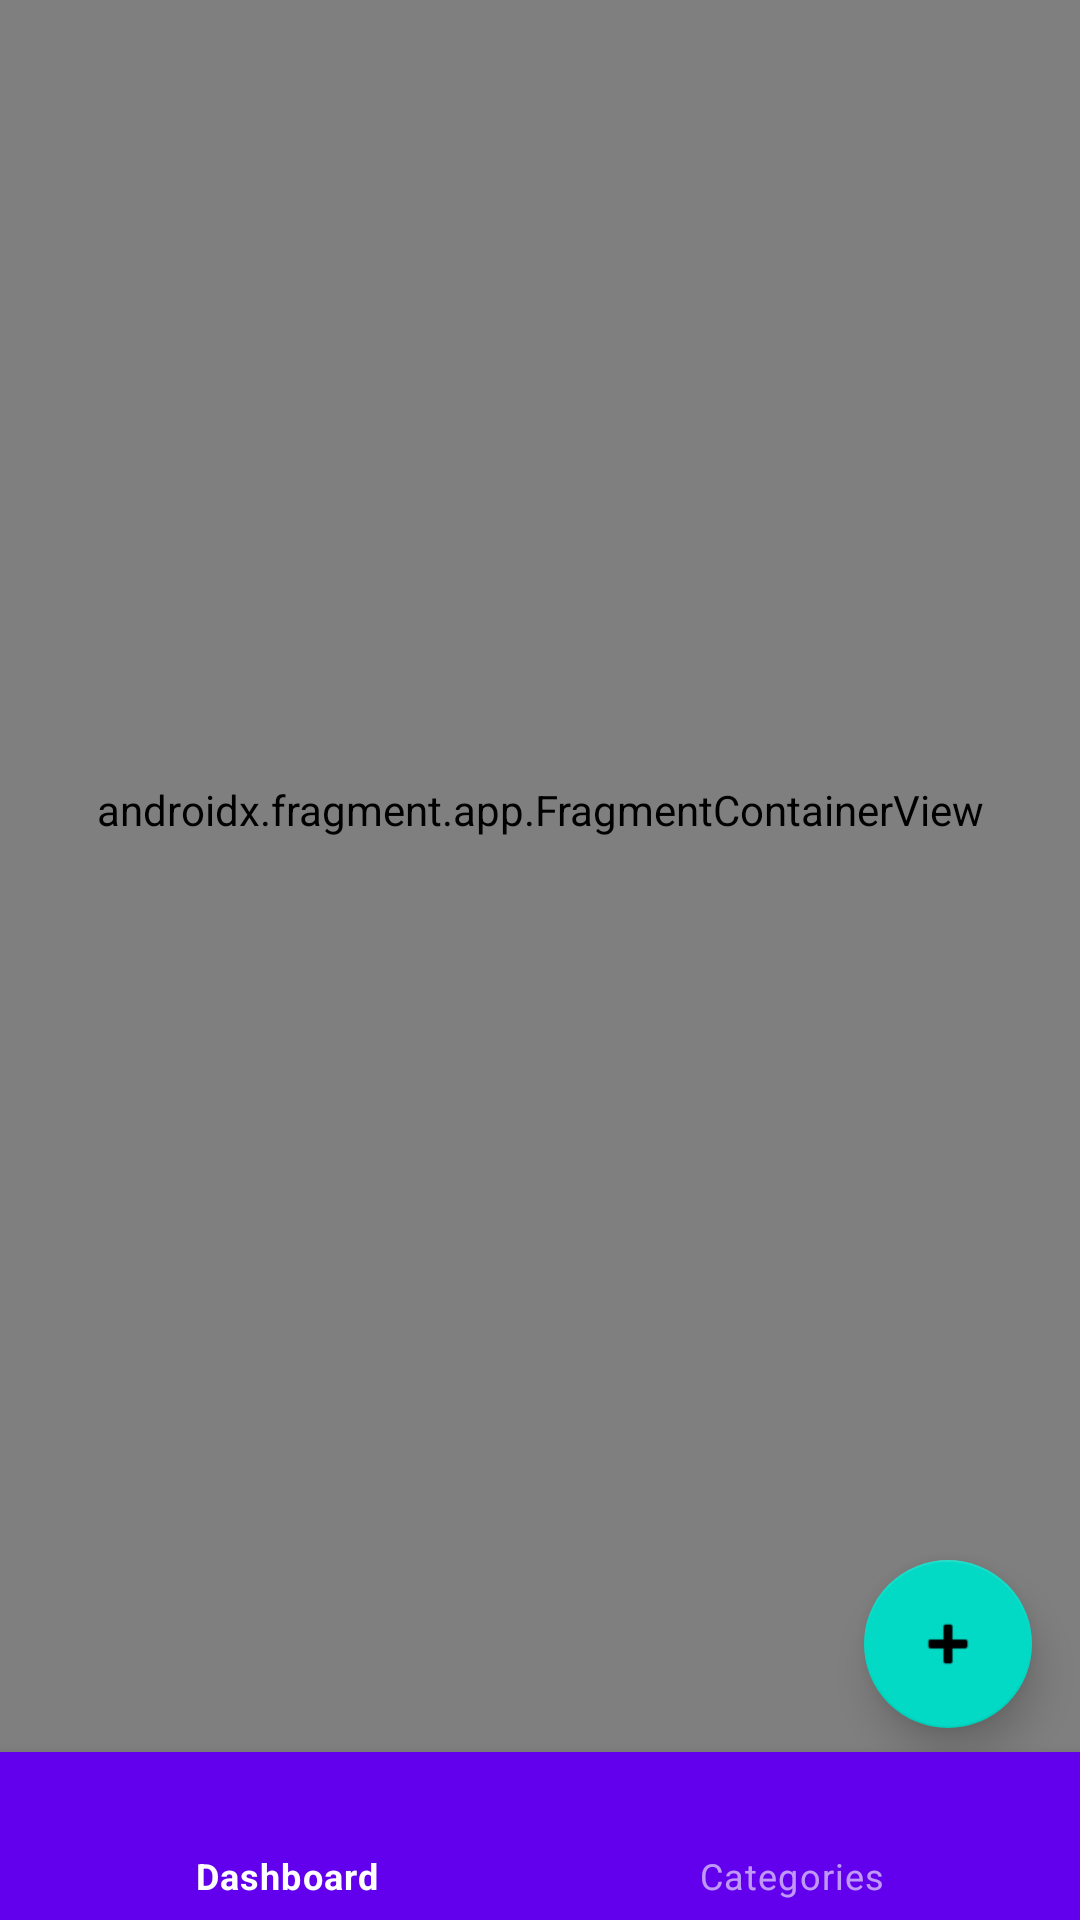

Named icons in this screenshot (1080*1920) and their centers, (x,y):
add: (948,1644)
